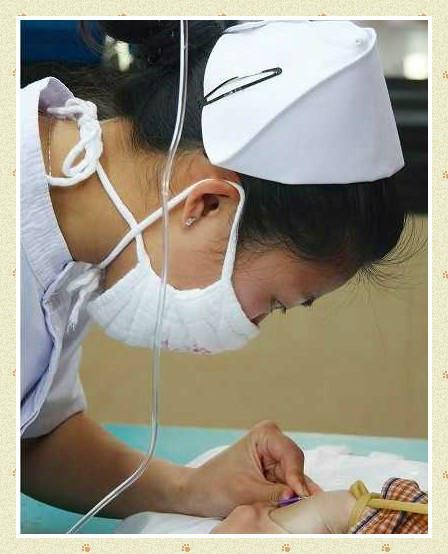OK: (80, 165, 336, 360)
